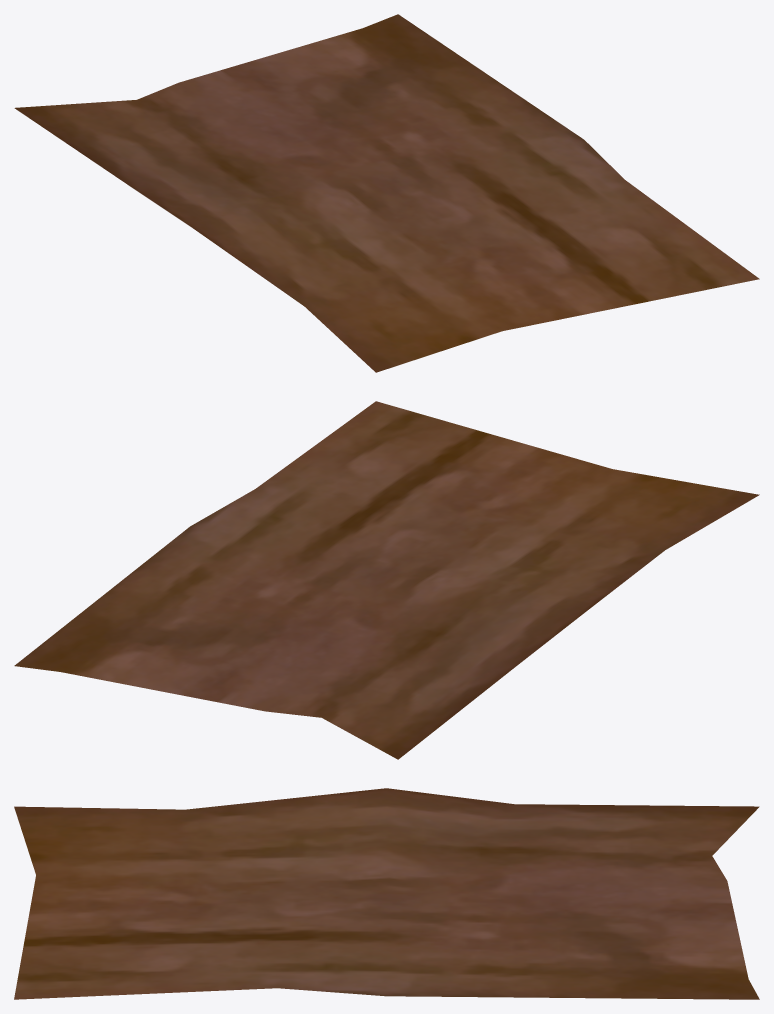
The model's file is daliang_field_a_s02a.fbx.
The picture shows the model from 3 angles, top to bottom: view 1: azimuth 30°, elevation 25°; view 2: azimuth 150°, elevation 25°; view 3: azimuth 270°, elevation 25°; orthographic projection. The views are drawn at different scales.
Parts seen in each view (by area): view 1: daliang_field_a_s02a; view 2: daliang_field_a_s02a; view 3: daliang_field_a_s02a.
Boxes of the visible parts, x1,y1,x2,y2 form: daliang_field_a_s02a: (14, 14, 759, 372); daliang_field_a_s02a: (14, 401, 759, 759); daliang_field_a_s02a: (14, 788, 759, 999).
Bounding box in the file's own units: 204 × 7.6 × 325.
